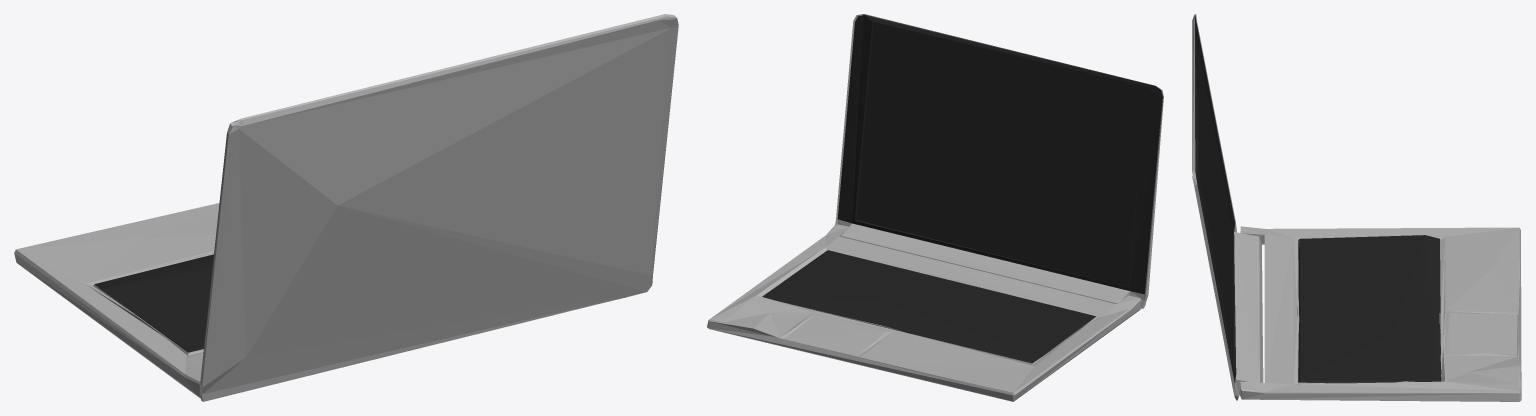
Rendered from laptop.glb.
3 views of the same model, side by side, from view 1: azimuth 30°, elevation 25°; view 2: azimuth 150°, elevation 25°; view 3: azimuth 270°, elevation 25° (orthographic). The views are drawn at different scales.
Visible parts, largest first — view 1: laptop; view 2: laptop; view 3: laptop.
Boxes of the visible parts, left/top/right/bottom form: laptop: left=14, top=14, right=678, bottom=401; laptop: left=707, top=14, right=1163, bottom=401; laptop: left=1192, top=14, right=1521, bottom=401.
Size of the model in its own units: 15.62 by 10 by 13.08.
1 material, 1 textured.
